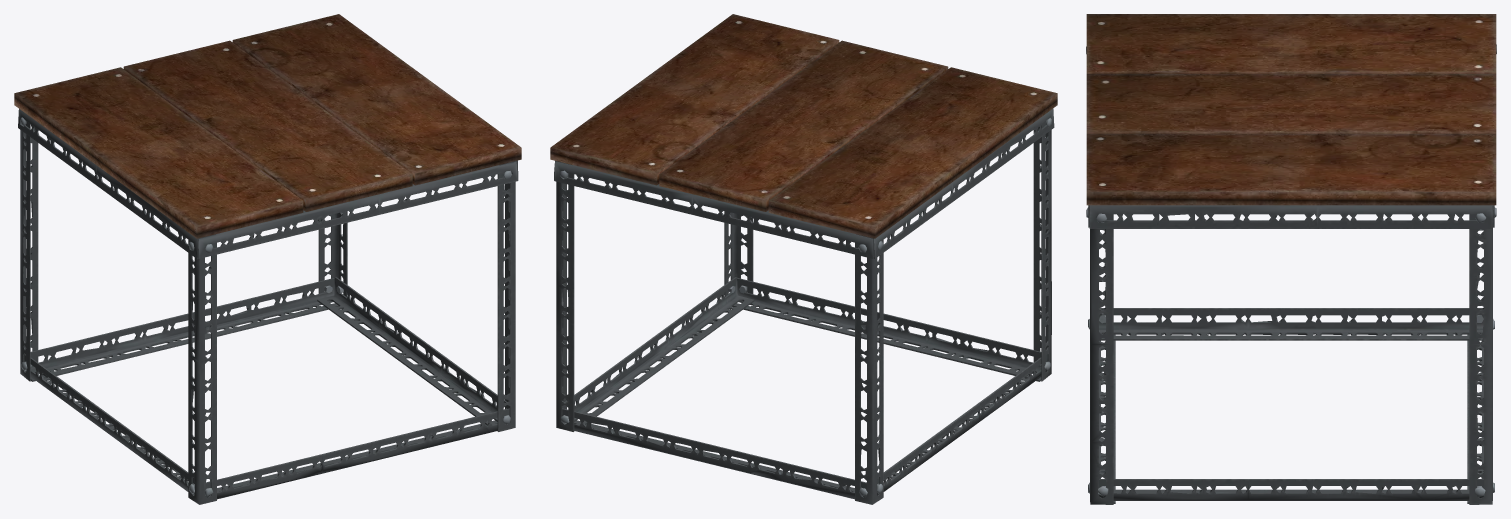
Rendered from industrial_coffee_table.glb.
3 views of the same model, side by side, from view 1: azimuth 30°, elevation 25°; view 2: azimuth 150°, elevation 25°; view 3: azimuth 270°, elevation 25° (orthographic). The views are drawn at different scales.
Parts seen in each view (by area): view 1: industrial_coffee_table; view 2: industrial_coffee_table; view 3: industrial_coffee_table.
Part boxes in pixels (x1,y1,x2,y2): industrial_coffee_table: (14,14,521,504); industrial_coffee_table: (550,14,1057,504); industrial_coffee_table: (1086,14,1496,504).
Size of the model in its own units: 0.7723 by 0.6375 by 0.7535.
1 material, 1 textured.
